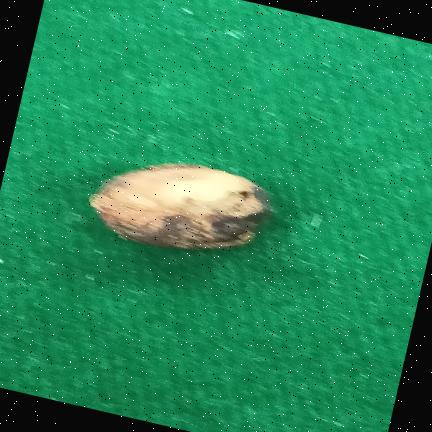full-black: (90, 164, 271, 249)
